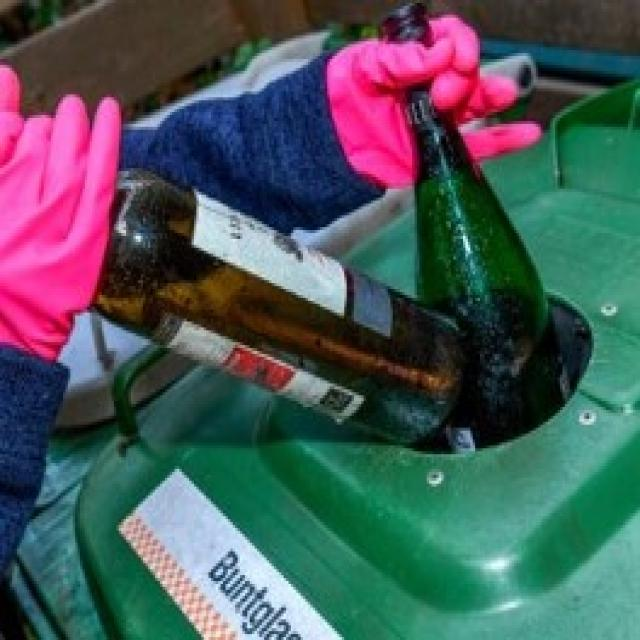electronic: (83, 162, 470, 448), (376, 4, 575, 458)
